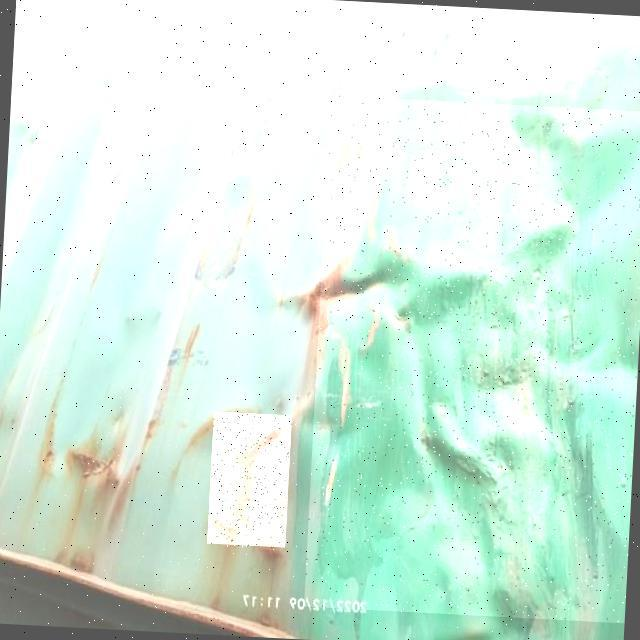Dent: (304, 95, 640, 623)
Rust: (207, 412, 292, 550)
